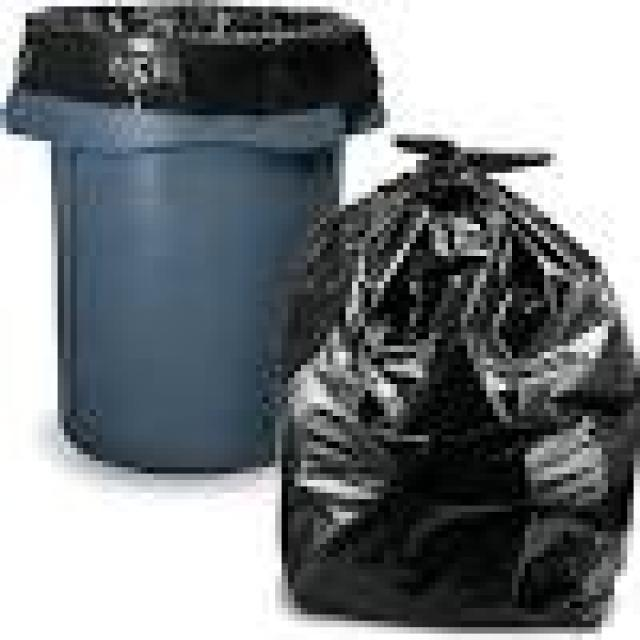Trashbag: (265, 163, 629, 636)
